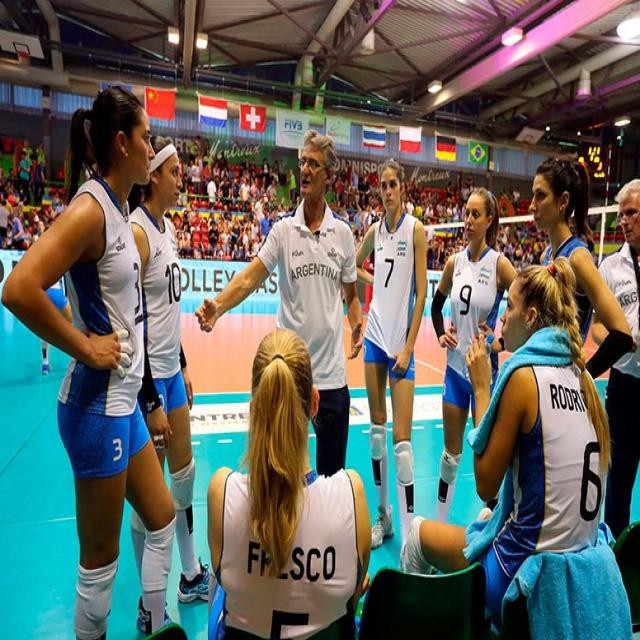body: (0, 83, 180, 640), (394, 251, 611, 639), (1, 136, 560, 262), (193, 124, 366, 479), (204, 323, 372, 640), (130, 132, 218, 636), (355, 158, 428, 572), (428, 185, 515, 525), (528, 148, 632, 382), (588, 176, 640, 544), (32, 157, 47, 211), (16, 150, 30, 206), (21, 136, 34, 167), (34, 138, 44, 178), (288, 167, 298, 205)
